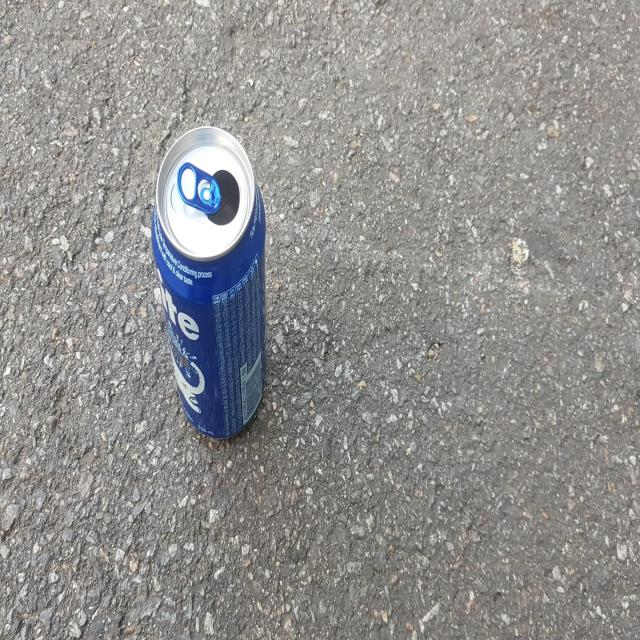can: (151, 125, 266, 438)
